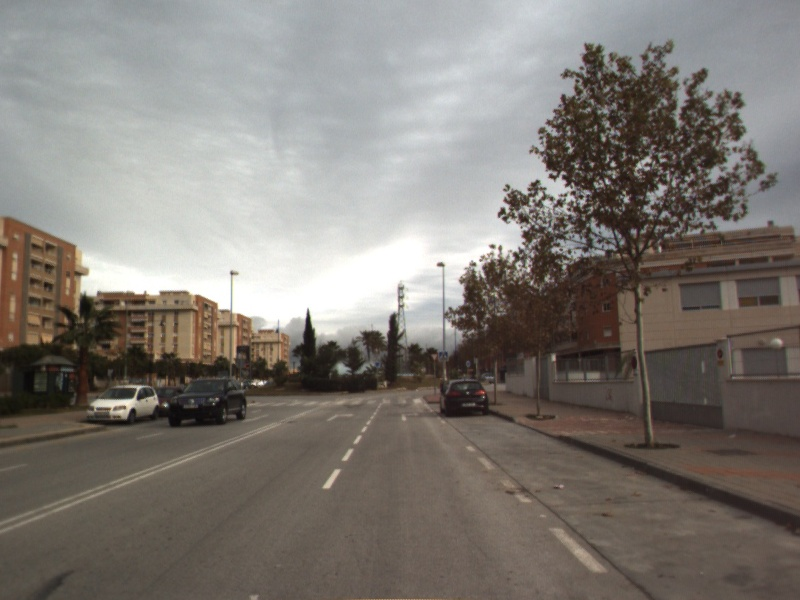RIGHT: (325, 410, 357, 423), (399, 409, 422, 423)
